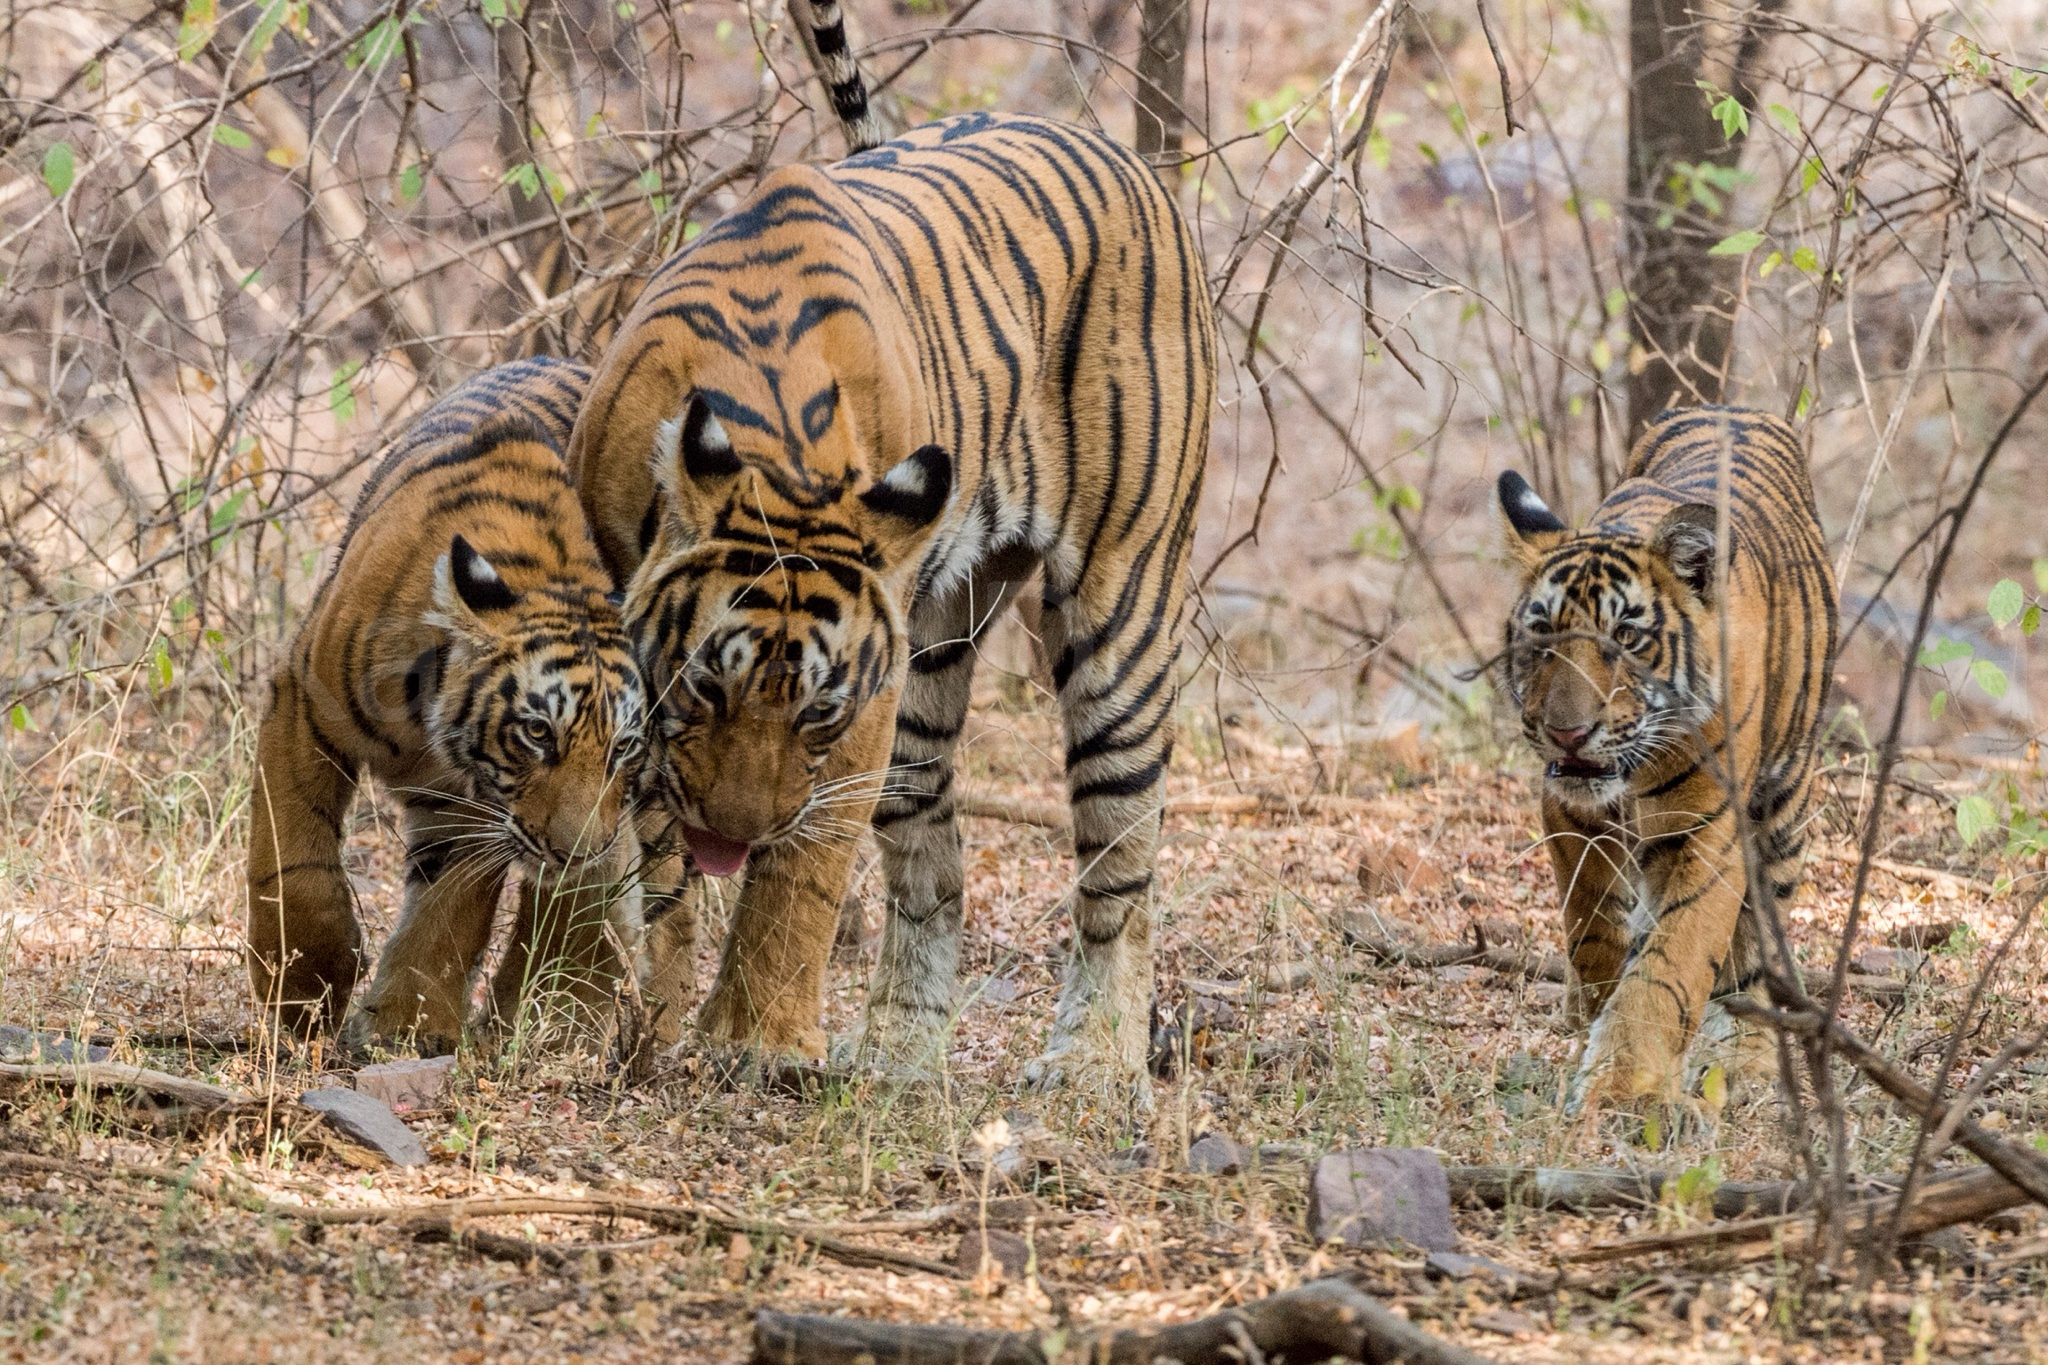tiger: (560, 87, 1241, 1057), (1422, 347, 1871, 1120), (244, 314, 665, 1051)
